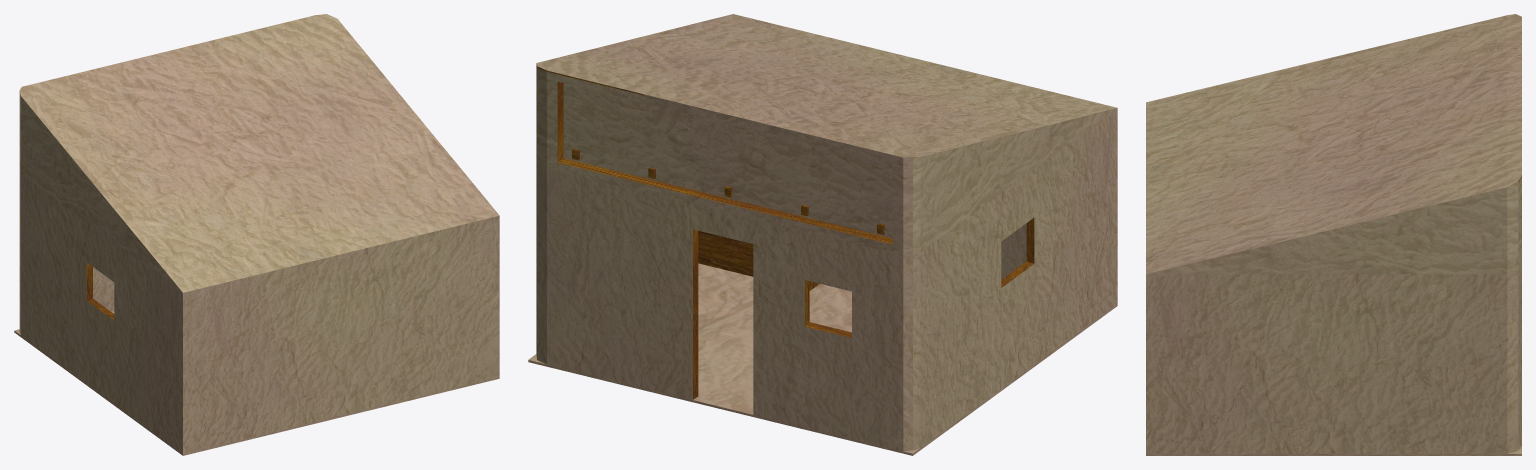
The model's file is shop_pos.obj.
3 renders of one model, left to right at view 1: azimuth 30°, elevation 25°; view 2: azimuth 150°, elevation 25°; view 3: azimuth 270°, elevation 25°, orthographic. The views are drawn at different scales.
Size of the model in its own units: 4.09 by 3.01 by 3.78.
